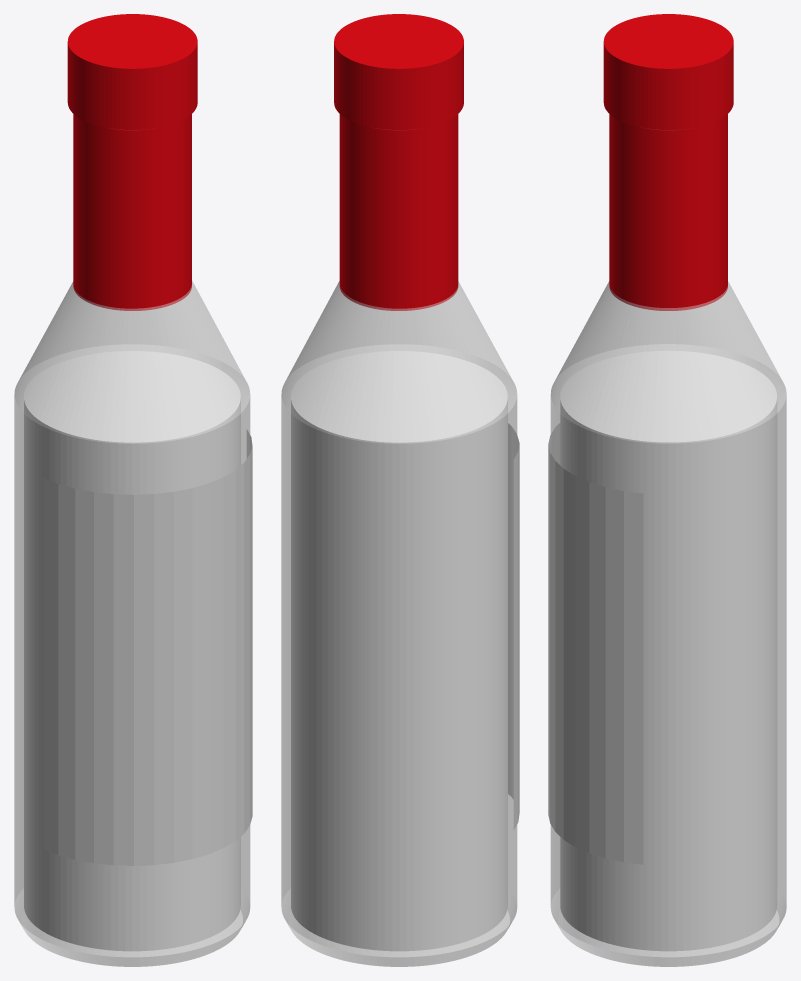
File: viin.fbx
3 views of the same model, side by side, from view 1: azimuth 30°, elevation 25°; view 2: azimuth 150°, elevation 25°; view 3: azimuth 270°, elevation 25° (orthographic).
Parts seen in each view (by area): view 1: label, bottl, Cylinder, neck, cap; view 2: bottl, Cylinder, neck, cap, label; view 3: bottl, Cylinder, label, neck, cap.
Part boxes in pixels (x1,y1,x2,y2): label: [43, 430, 252, 865]; bottl: [14, 281, 250, 966]; Cylinder: [24, 351, 240, 951]; neck: [73, 114, 191, 310]; cap: [67, 14, 197, 129]; bottl: [281, 281, 517, 966]; Cylinder: [291, 351, 507, 951]; neck: [339, 114, 458, 310]; cap: [334, 14, 463, 129]; label: [508, 423, 519, 830]; bottl: [550, 281, 786, 966]; Cylinder: [560, 350, 777, 951]; label: [548, 423, 643, 864]; neck: [609, 114, 727, 310]; cap: [603, 14, 733, 129].
Size of the model in its own units: 200 by 822 by 202.
